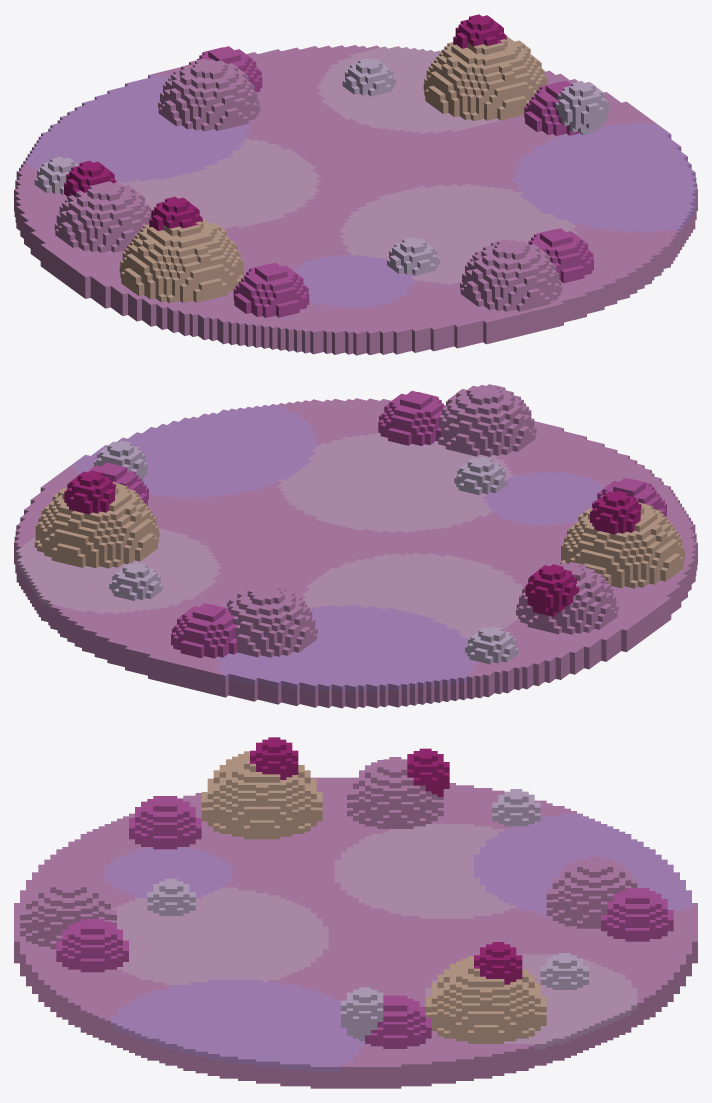
The model's file is ggj2020_stage_heart.obj.
3 views of the same model, one above another, from view 1: azimuth 30°, elevation 25°; view 2: azimuth 150°, elevation 25°; view 3: azimuth 270°, elevation 25° (orthographic).
Bounding box in the file's own units: 11.3 × 1.7 × 11.3.
1 material, 1 textured.
